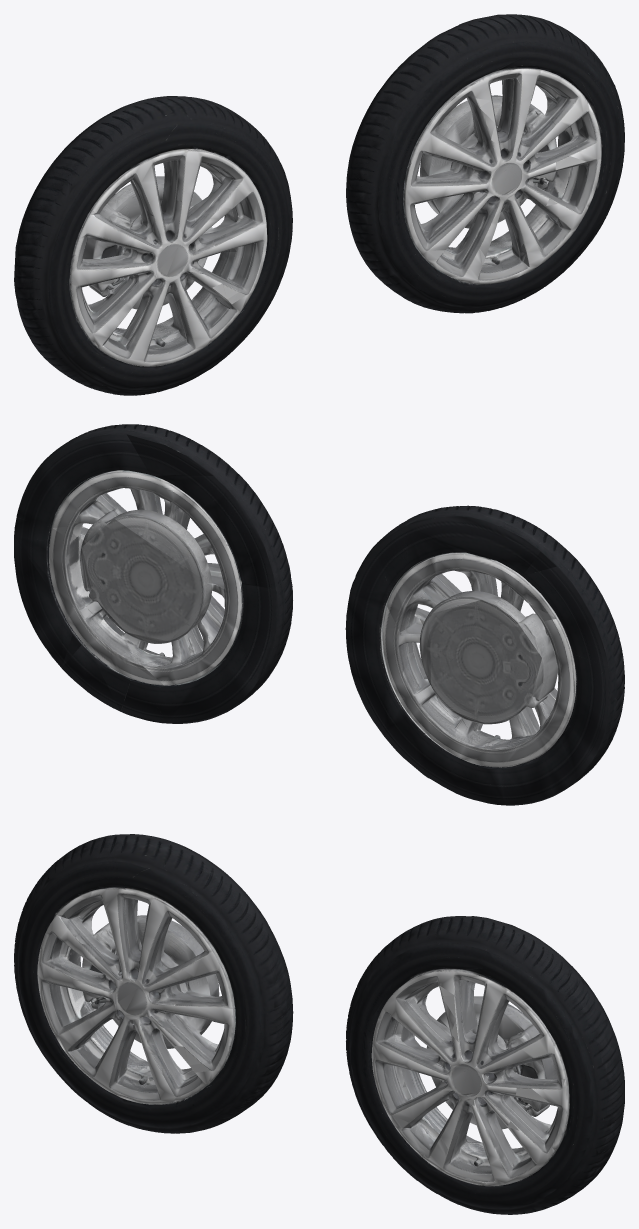
The model's file is 3_wheels.glb.
The picture shows the model from 3 angles, top to bottom: view 1: azimuth 30°, elevation 25°; view 2: azimuth 150°, elevation 25°; view 3: azimuth 330°, elevation 25°; orthographic projection.
Parts seen in each view (by area): view 1: Mesh_0; view 2: Mesh_0; view 3: Mesh_0.
Boxes of the visible parts, <box> form: Mesh_0: <box>14,14,624,395</box>; Mesh_0: <box>14,424,624,805</box>; Mesh_0: <box>14,834,624,1214</box>.
Bounding box in the file's own units: 1.43 × 0.65 × 0.1178.
Materials: 1 (1 with a texture image).
